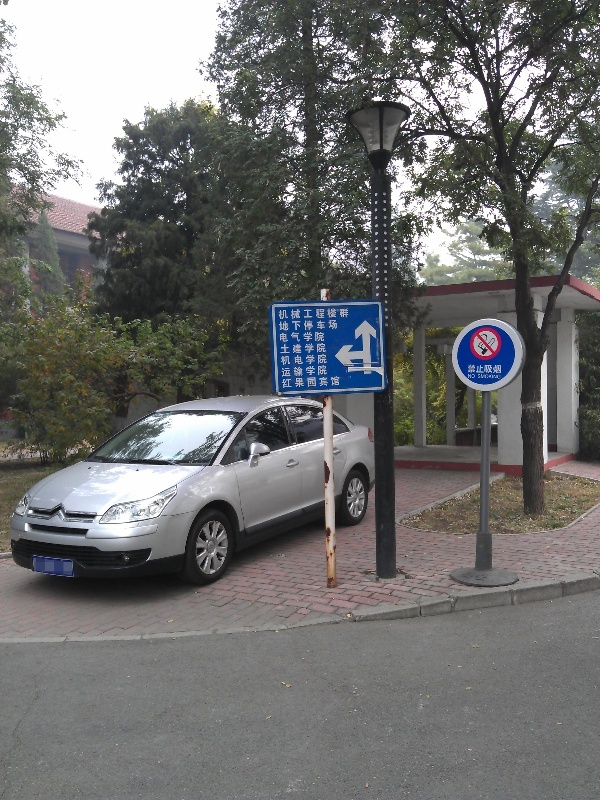text: (289, 307, 304, 321), (305, 307, 320, 321), (321, 307, 336, 321), (289, 364, 304, 378), (305, 364, 320, 378), (337, 307, 351, 321), (289, 319, 304, 332), (305, 319, 320, 332), (321, 319, 336, 332), (289, 331, 304, 344), (305, 331, 320, 344), (289, 353, 304, 366), (305, 353, 320, 366), (289, 376, 304, 389), (305, 376, 320, 389), (321, 376, 336, 389), (289, 343, 304, 355), (305, 343, 320, 355), (481, 364, 496, 375), (278, 307, 288, 321), (468, 364, 480, 375), (278, 319, 288, 332), (279, 331, 288, 344), (321, 353, 329, 366), (281, 364, 288, 378), (280, 343, 288, 355), (281, 353, 288, 366), (481, 374, 496, 380), (321, 364, 327, 378), (282, 376, 288, 389), (337, 376, 343, 389), (321, 343, 327, 355), (321, 331, 326, 344), (468, 374, 480, 379), (497, 364, 502, 375), (497, 374, 502, 380), (477, 374, 480, 380), (337, 319, 338, 332)
